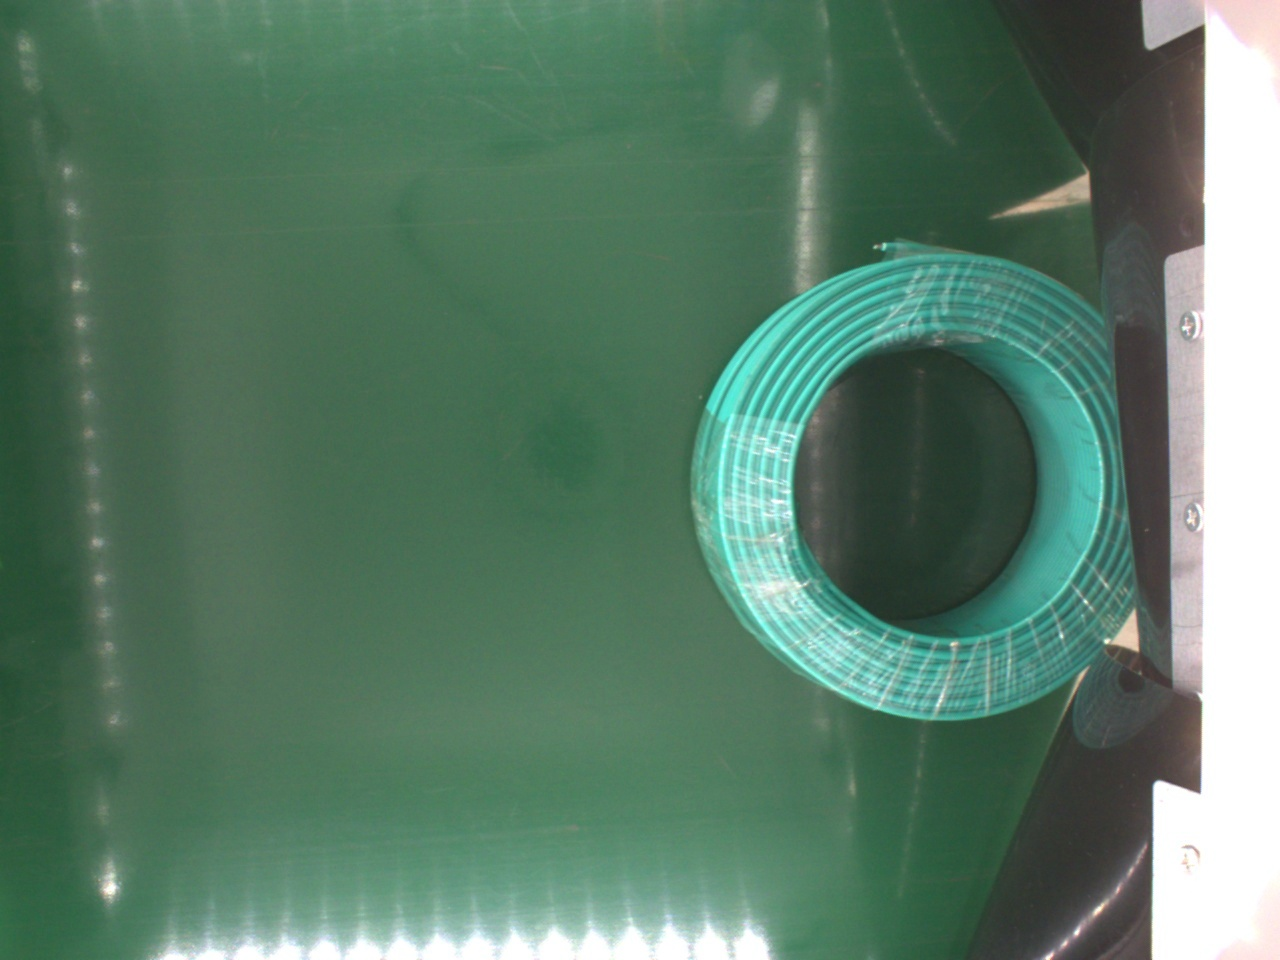green: (696, 245, 1131, 717)
